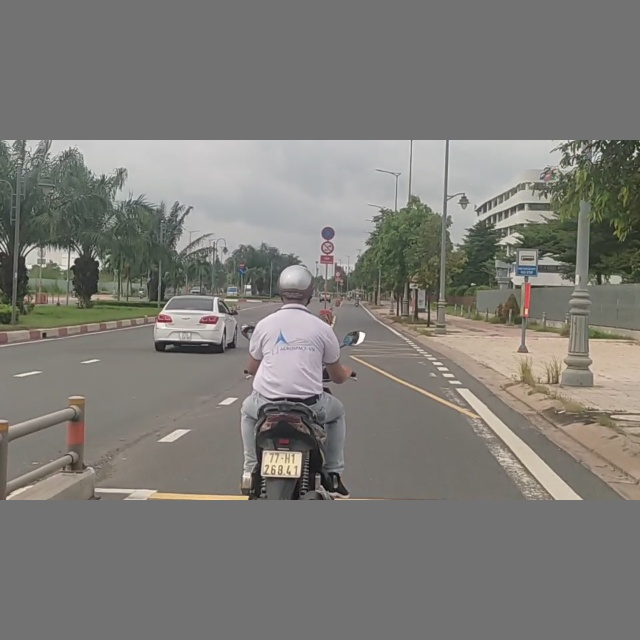I.434a: (517, 247, 539, 277)
P.111: (320, 241, 334, 254)
P.130: (321, 226, 335, 241)
